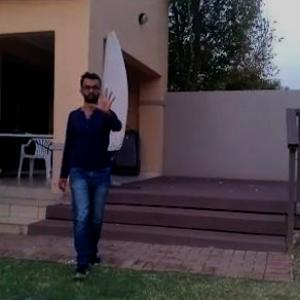follow_hand: (88, 84, 120, 117)
